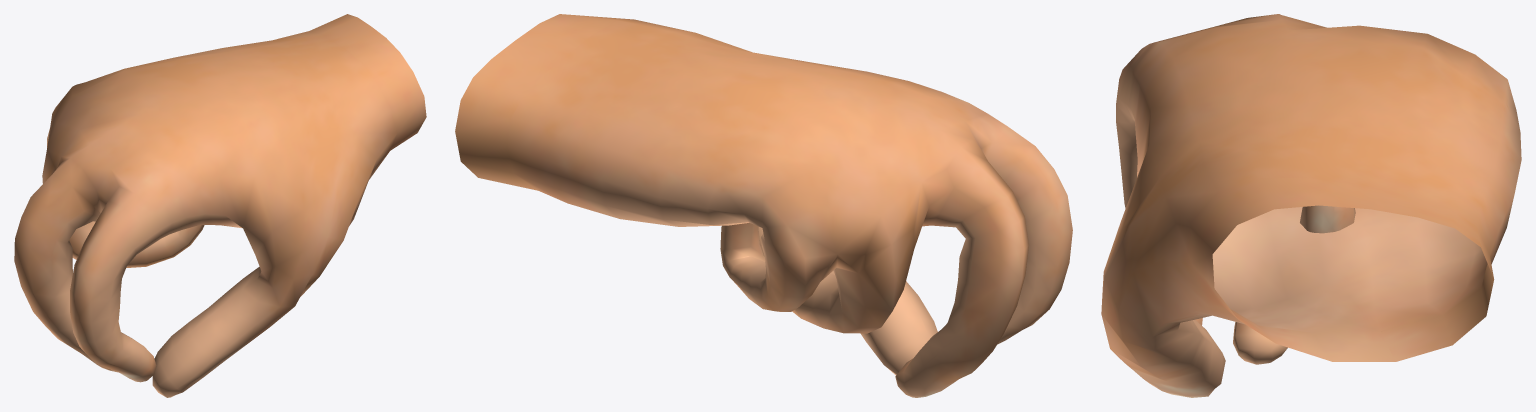
Rendered from H_thumb_2.fbx.
3 views of the same model, side by side, from view 1: azimuth 30°, elevation 25°; view 2: azimuth 150°, elevation 25°; view 3: azimuth 270°, elevation 25° (orthographic). The views are drawn at different scales.
Visible parts, largest first — view 1: H_thumb_2; view 2: H_thumb_2; view 3: H_thumb_2.
Boxes of the visible parts, x1,y1,x2,y2 form: H_thumb_2: [14, 14, 426, 397]; H_thumb_2: [455, 14, 1072, 397]; H_thumb_2: [1101, 14, 1521, 397].
Bounding box in the file's own units: 14.76 × 9.45 × 9.36.
Materials: 1 (1 with a texture image).
